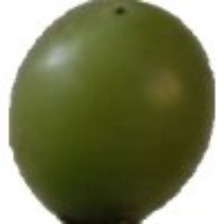grapes: (52, 0, 210, 195)
